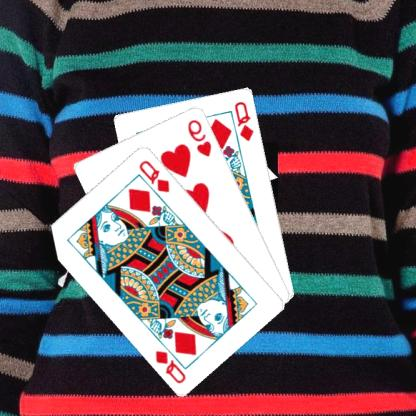9H: (187, 116, 215, 158)
QD: (154, 347, 190, 385), (138, 156, 173, 194), (234, 98, 257, 142)
